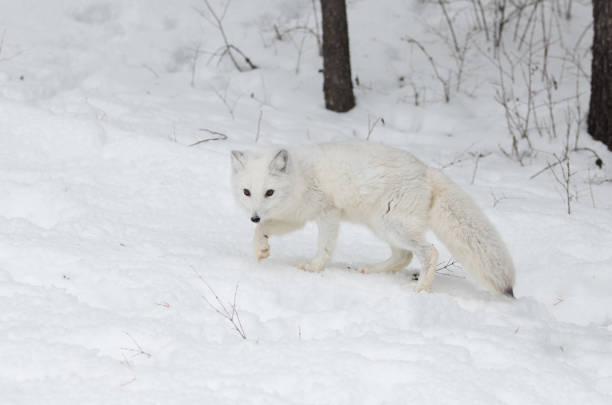arcticfox: (231, 161, 289, 234)
